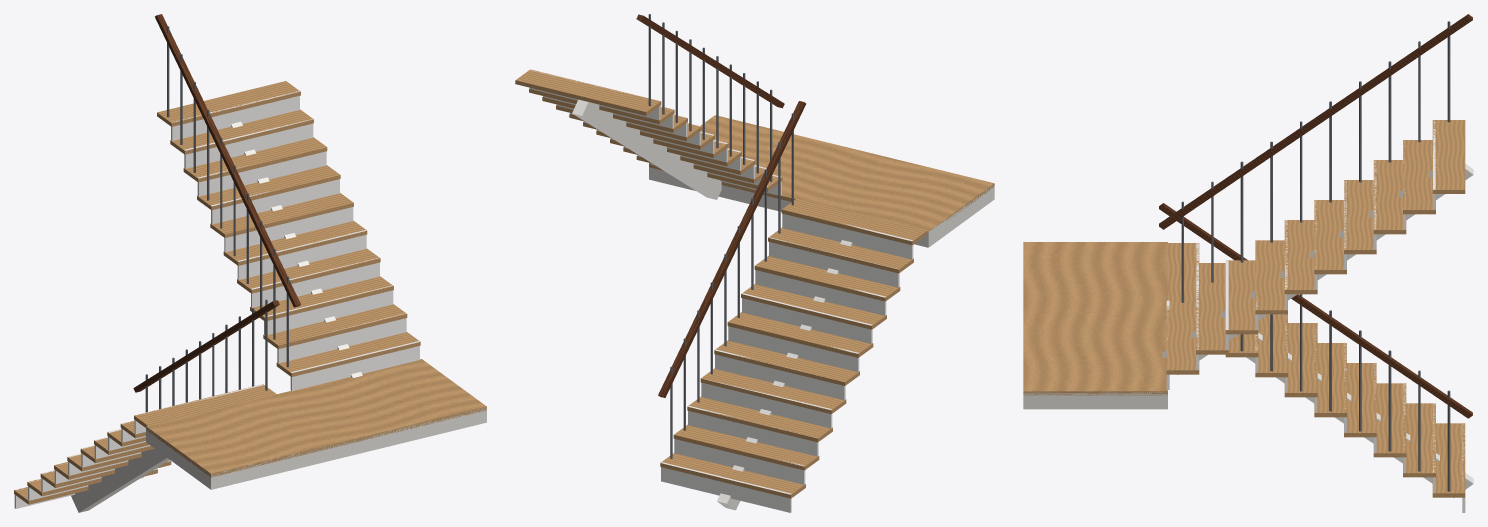
Rendered from stair_flight_u_turn.glb.
The picture shows the model from 3 angles, left to right: view 1: azimuth 30°, elevation 25°; view 2: azimuth 150°, elevation 25°; view 3: azimuth 270°, elevation 25°; orthographic projection. The views are drawn at different scales.
Visible parts, largest first — view 1: stair_flight_u_turn_woodOak, stair_flight_u_turn_stairRiserWhite, stair_flight_u_turn_concreteStructural, stair_flight_u_turn_metalBlack, stair_flight_u_turn_woodWalnut; view 2: stair_flight_u_turn_woodOak, stair_flight_u_turn_stairRiserWhite, stair_flight_u_turn_concreteStructural, stair_flight_u_turn_metalBlack, stair_flight_u_turn_woodWalnut; view 3: stair_flight_u_turn_woodOak, stair_flight_u_turn_woodWalnut, stair_flight_u_turn_metalBlack, stair_flight_u_turn_concreteStructural, stair_flight_u_turn_stairRiserWhite.
Part boxes in pixels (bbox=[...]): stair_flight_u_turn_woodOak: bbox=[14, 81, 486, 504]; stair_flight_u_turn_stairRiserWhite: bbox=[14, 91, 419, 508]; stair_flight_u_turn_concreteStructural: bbox=[71, 121, 486, 512]; stair_flight_u_turn_metalBlack: bbox=[145, 26, 288, 412]; stair_flight_u_turn_woodWalnut: bbox=[133, 14, 300, 392]; stair_flight_u_turn_woodOak: bbox=[515, 69, 994, 498]; stair_flight_u_turn_stairRiserWhite: bbox=[529, 69, 913, 512]; stair_flight_u_turn_concreteStructural: bbox=[572, 99, 994, 510]; stair_flight_u_turn_metalBlack: bbox=[648, 14, 793, 458]; stair_flight_u_turn_woodWalnut: bbox=[636, 14, 806, 397]; stair_flight_u_turn_woodOak: bbox=[1023, 120, 1465, 497]; stair_flight_u_turn_woodWalnut: bbox=[1159, 14, 1472, 418]; stair_flight_u_turn_metalBlack: bbox=[1181, 21, 1450, 491]; stair_flight_u_turn_concreteStructural: bbox=[1023, 163, 1473, 497]; stair_flight_u_turn_stairRiserWhite: bbox=[1166, 121, 1465, 512].
Size of what is drawn, in the model's own units: 2.2 by 3.6 by 2.8.
Materials: 5 (2 with a texture image).
